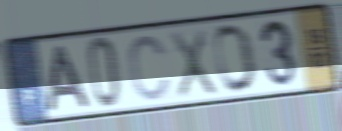0: (86, 35, 125, 111)
3: (256, 17, 301, 89)
A: (43, 43, 93, 115)
C: (127, 32, 173, 103)
O: (212, 21, 259, 96)
X: (168, 26, 219, 101)
